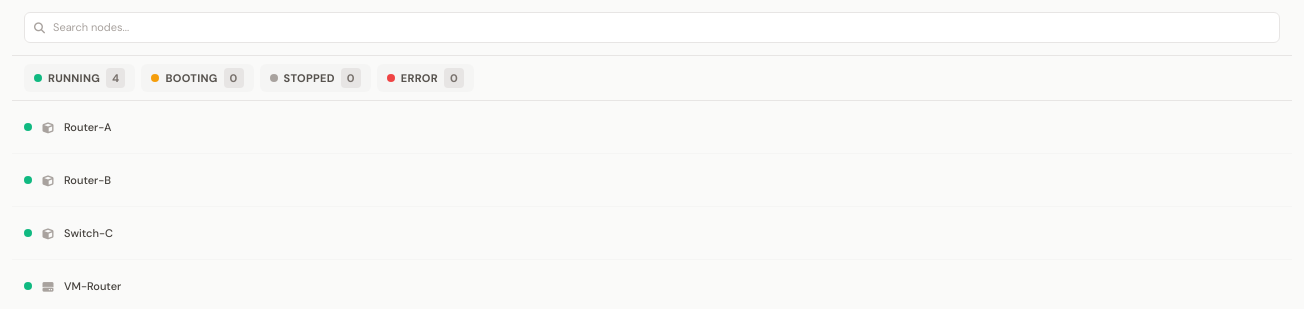
NodeListPanel › Filtering › Clear filters button resets search and active filters
# Type search + activate filter to get zero results
Type "zzz" into the field with placeholder "Search nodes..." at (652, 27), box x1=24 y1=12 x2=1280 y2=42
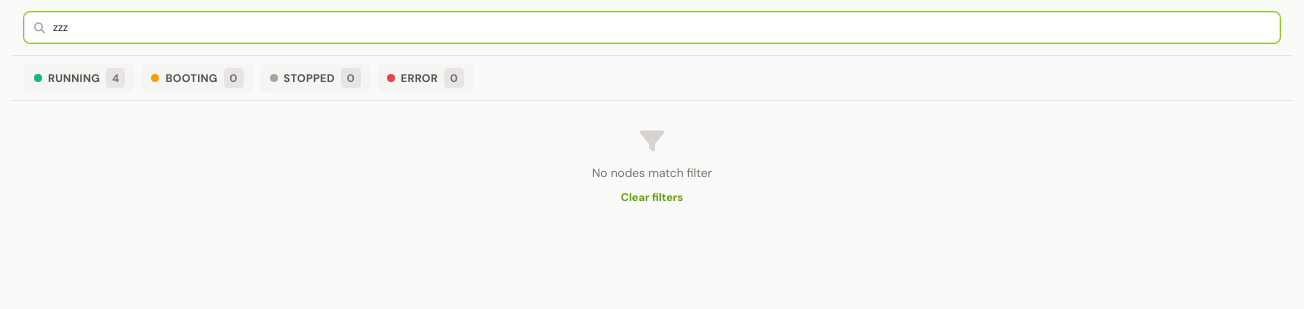
Click the text "Error" at (419, 78), box x1=401 y1=70 x2=438 y2=86
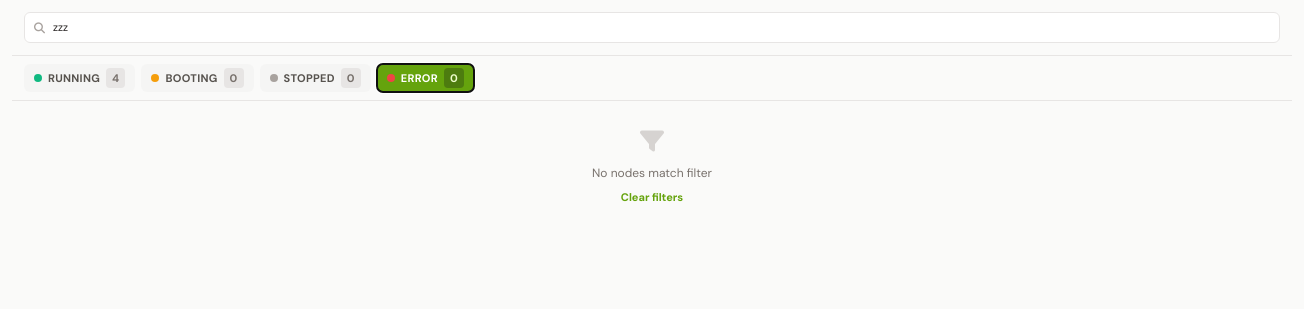
Expected: the text "No nodes match filter" is shown, x1=592 y1=165 x2=712 y2=181
Click the button "Clear filters" at (652, 197), box x1=621 y1=189 x2=683 y2=206
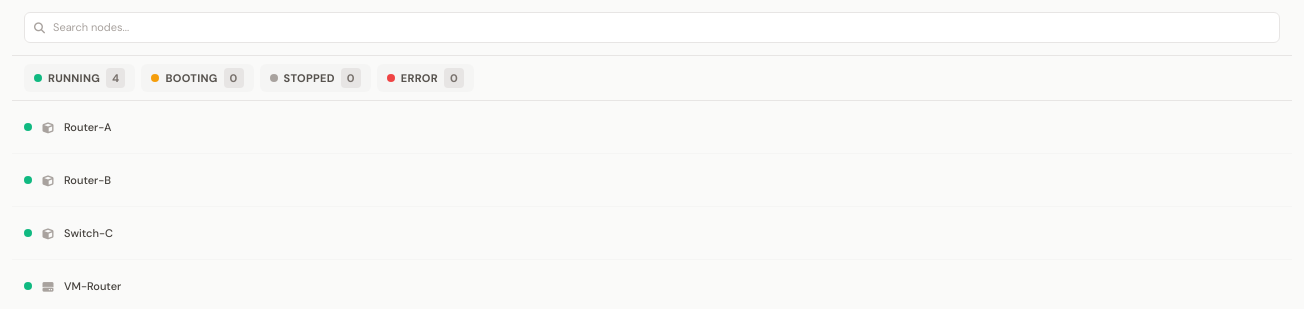
Expected: the text "Router-A" is shown, x1=64 y1=120 x2=112 y2=134
Expected: the text "VM-Router" is shown, x1=64 y1=279 x2=121 y2=293
